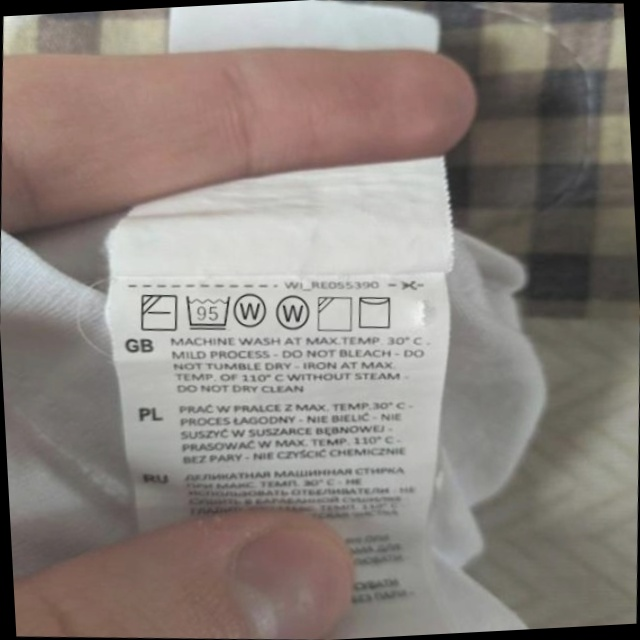95C: (182, 290, 234, 334)
dry_flat_in_shade: (137, 289, 181, 335)
line_dry: (354, 290, 397, 333)
shade_dry: (314, 292, 356, 335)
wet_clean: (273, 292, 313, 335), (232, 287, 271, 331)
